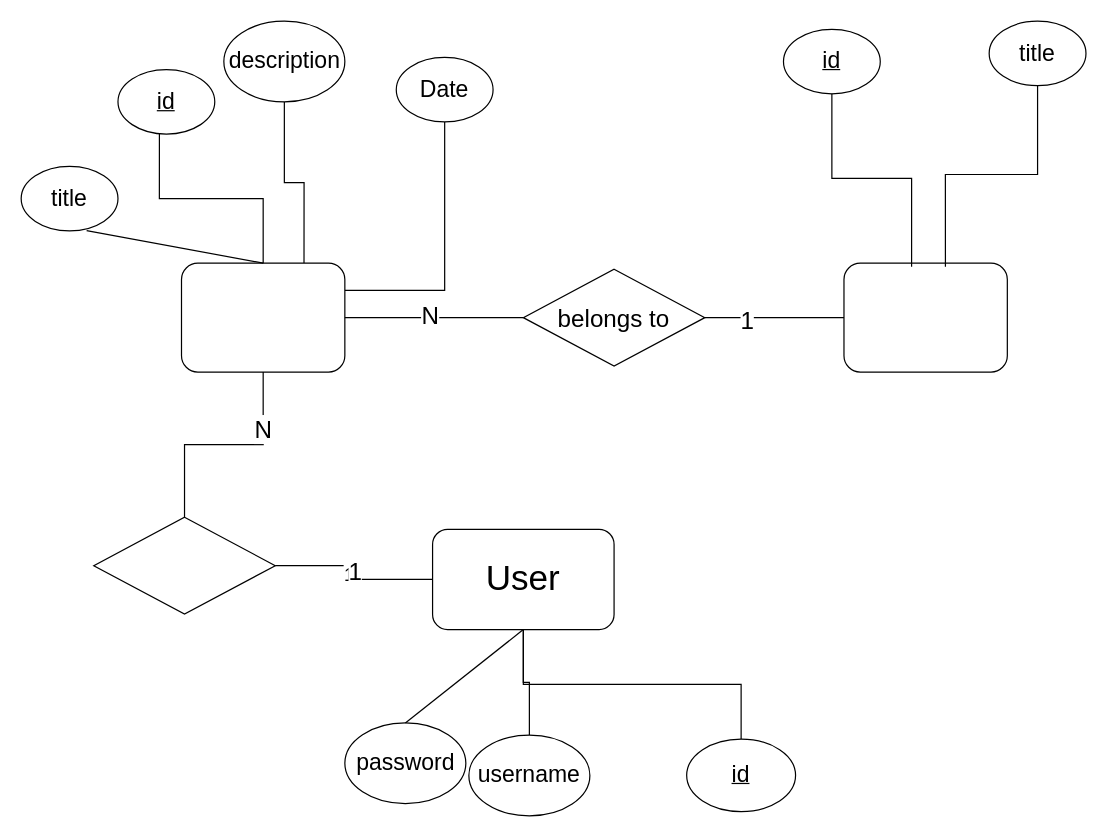
This 1107x837 diagram has some shape labels left out. The centre of each missing label's shape, as x and y in pixels:
"category" belongs at [925,317].
"has" belongs at [184,565].
"Task" belongs at [262,317].
